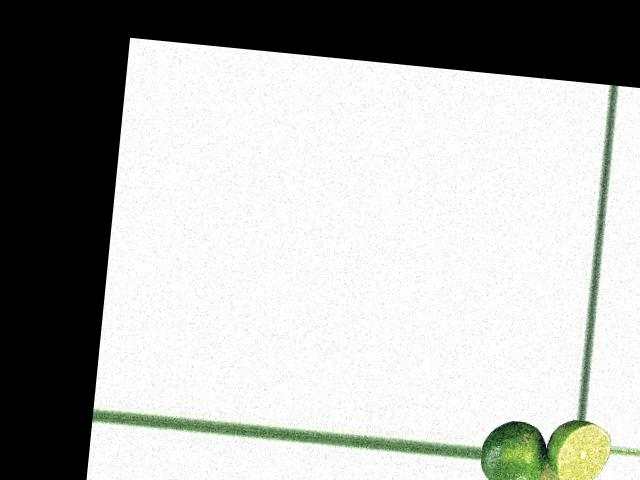lemon: (479, 420, 553, 480)
